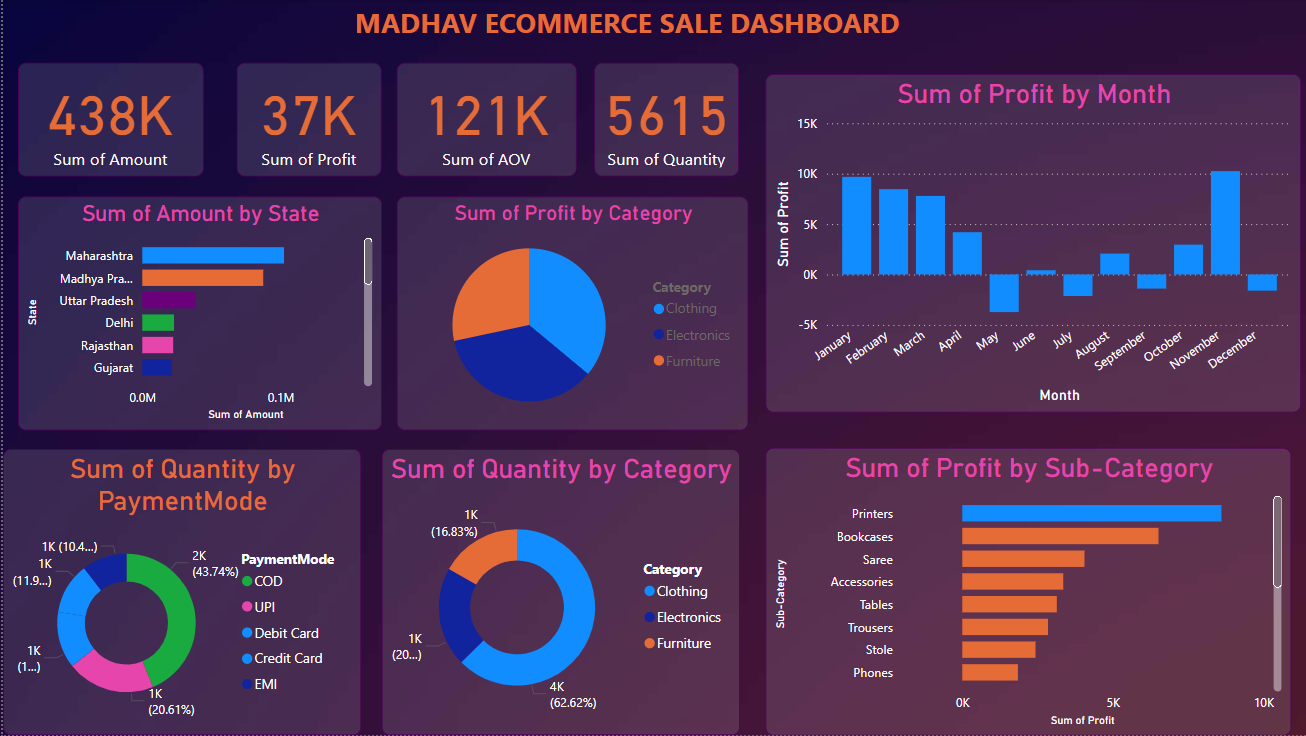

Layout of this report page (visuals, bound fields, positions):
{"tool":"powerbi","page":{"name":"Page 1","canvas":[1280,720],"ordinal":0},"visuals":[{"type":"textbox","box":[0,0,1221.4,62.9],"z":0},{"type":"columnChart","fields":{"Y":["Sum(Details.Profit)"],"Category":["Orders.Order Date.Variation.Date Hierarchy.Month"]},"box":[745.7,72.9,524.3,331.4],"z":1000},{"type":"clusteredBarChart","fields":{"Category":["Details.Sub-Category"],"Y":["Sum(Details.Profit)"]},"box":[745.7,438.6,514.3,281.4],"z":2000},{"type":"donutChart","fields":{"Y":["Sum(Details.Quantity)"],"Category":["Details.Category"]},"box":[370,440,350,280],"z":3000},{"type":"donutChart","fields":{"Y":["Sum(Details.Quantity)"],"Category":["Details.PaymentMode"]},"box":[0,440,350,280],"z":4000},{"type":"card","fields":{"Values":["Sum(Details.Amount)"]},"box":[14.3,62.9,181.4,111.4],"z":5000},{"type":"card","fields":{"Values":["Sum(Details.Profit)"]},"box":[228.6,62.9,141.4,111.4],"z":6000},{"type":"card","fields":{"Values":["Sum(Details.AOV)"]},"box":[385.7,62.9,175.7,111.4],"z":7000},{"type":"card","fields":{"Values":["Sum(Details.Quantity)"]},"box":[578.6,62.9,141.4,111.4],"z":8000},{"type":"clusteredBarChart","fields":{"Category":["Orders.State"],"Y":["Sum(Details.Amount)"]},"box":[14.3,192.9,355.7,228.6],"z":9000},{"type":"pieChart","fields":{"Category":["Details.Category"],"Y":["Sum(Details.Profit)"]},"box":[385.7,192.9,344.3,228.6],"z":10000}]}

Visuals, with their boxes in screenshot pixels (x1, y1, x2, y2), scaled from the page's 1280x720 canvas onto the 1306x736 screenshot:
textbox: detection(0, 0, 1246, 64)
columnChart - Sum(Details.Profit) x Orders.Order Date.Variation.Date Hierarchy.Month: detection(761, 75, 1296, 413)
clusteredBarChart - Details.Sub-Category x Sum(Details.Profit): detection(761, 448, 1286, 735)
donutChart - Sum(Details.Quantity) x Details.Category: detection(378, 450, 735, 735)
donutChart - Sum(Details.Quantity) x Details.PaymentMode: detection(0, 450, 357, 735)
card - Sum(Details.Amount): detection(15, 64, 200, 178)
card - Sum(Details.Profit): detection(233, 64, 378, 178)
card - Sum(Details.AOV): detection(394, 64, 573, 178)
card - Sum(Details.Quantity): detection(590, 64, 735, 178)
clusteredBarChart - Orders.State x Sum(Details.Amount): detection(15, 197, 378, 431)
pieChart - Details.Category x Sum(Details.Profit): detection(394, 197, 745, 431)
